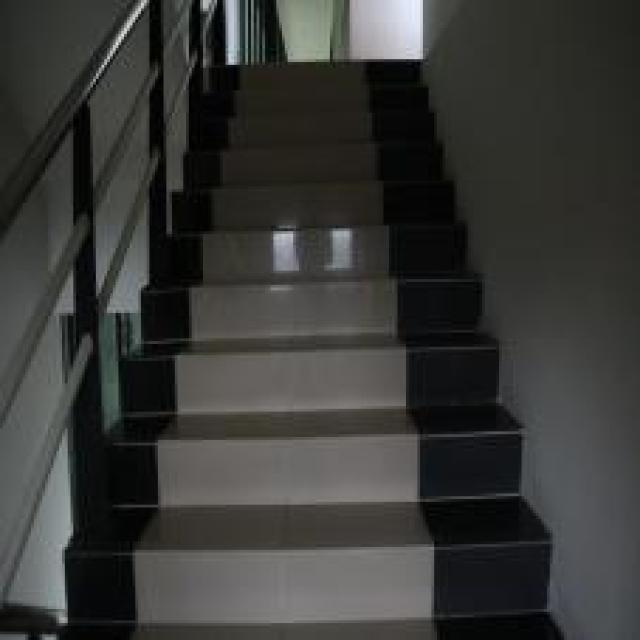upstair: (170, 151, 447, 560)
